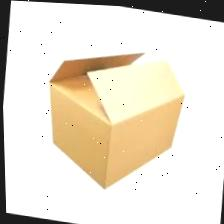cardboard: (25, 30, 207, 191)
